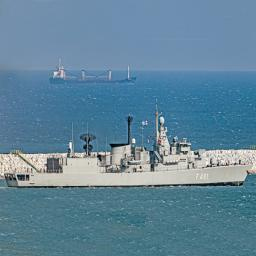Fragata: (5, 96, 256, 192)
